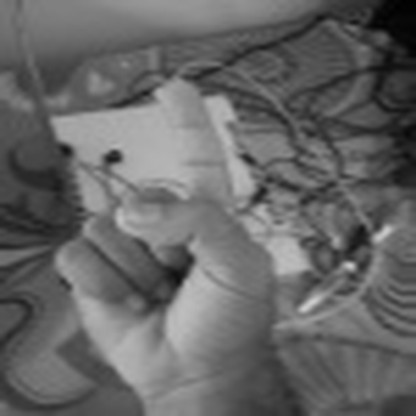d: (60, 77, 296, 406)
